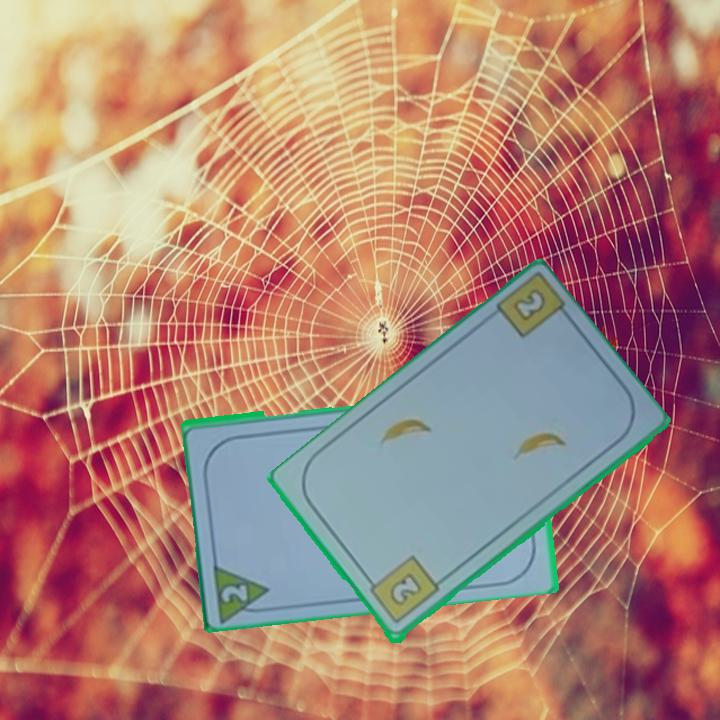2b: (363, 553, 442, 627), (509, 288, 549, 325)
2p: (218, 580, 251, 605)
